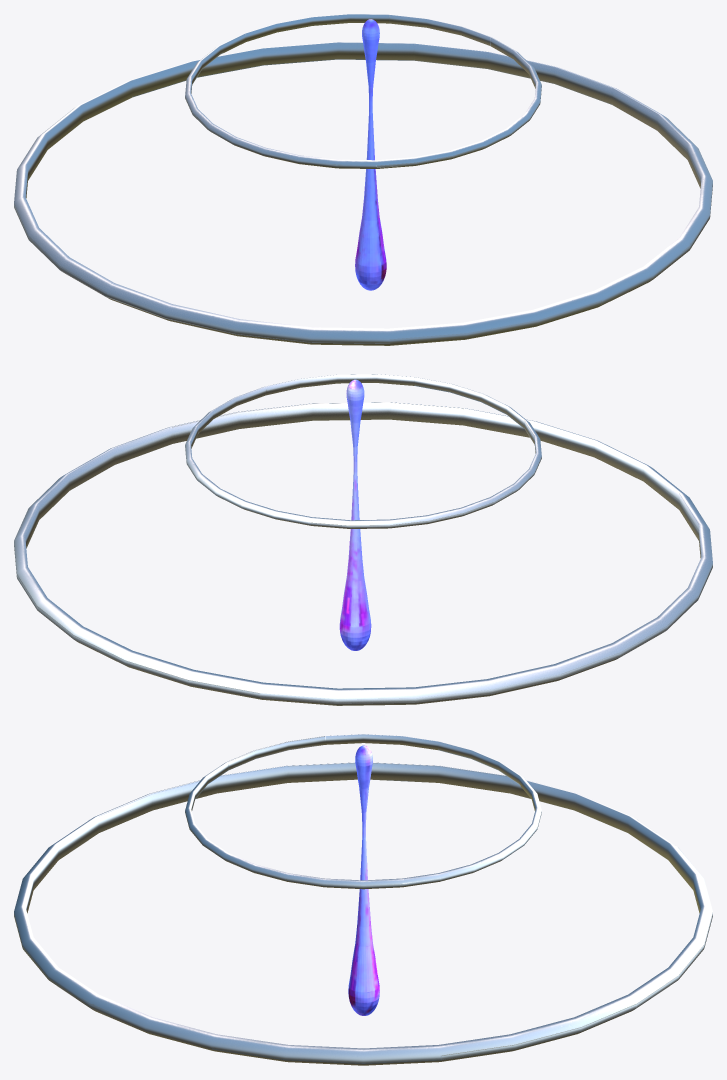
File: DropRing.glb
The picture shows the model from 3 angles, top to bottom: view 1: azimuth 30°, elevation 25°; view 2: azimuth 150°, elevation 25°; view 3: azimuth 270°, elevation 25°; orthographic projection.
Visible parts, largest first — view 1: 环体.006, 环体.003, 球体; view 2: 环体.006, 环体.003, 球体; view 3: 环体.006, 环体.003, 球体.
Part boxes in pixels (x1,y1,x2,y2): 环体.006: (14,42,712,345); 环体.003: (185,14,541,168); 球体: (355,19,386,290); 环体.006: (14,402,712,705); 环体.003: (185,374,541,528); 球体: (339,379,371,650); 环体.006: (14,762,712,1065); 环体.003: (185,734,541,889); 球体: (348,745,379,1015).
Size of what is drawn, in the model's own units: 4.3 by 1.83 by 4.3.
2 materials, 2 textured.
